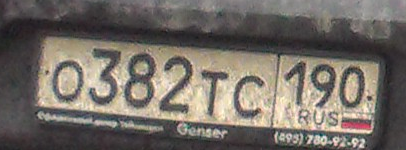character: (160, 51, 193, 116), (90, 42, 122, 109), (124, 51, 159, 112), (231, 72, 272, 123), (49, 57, 86, 108), (198, 62, 231, 117), (338, 56, 366, 112), (310, 58, 337, 112), (282, 57, 309, 110)
